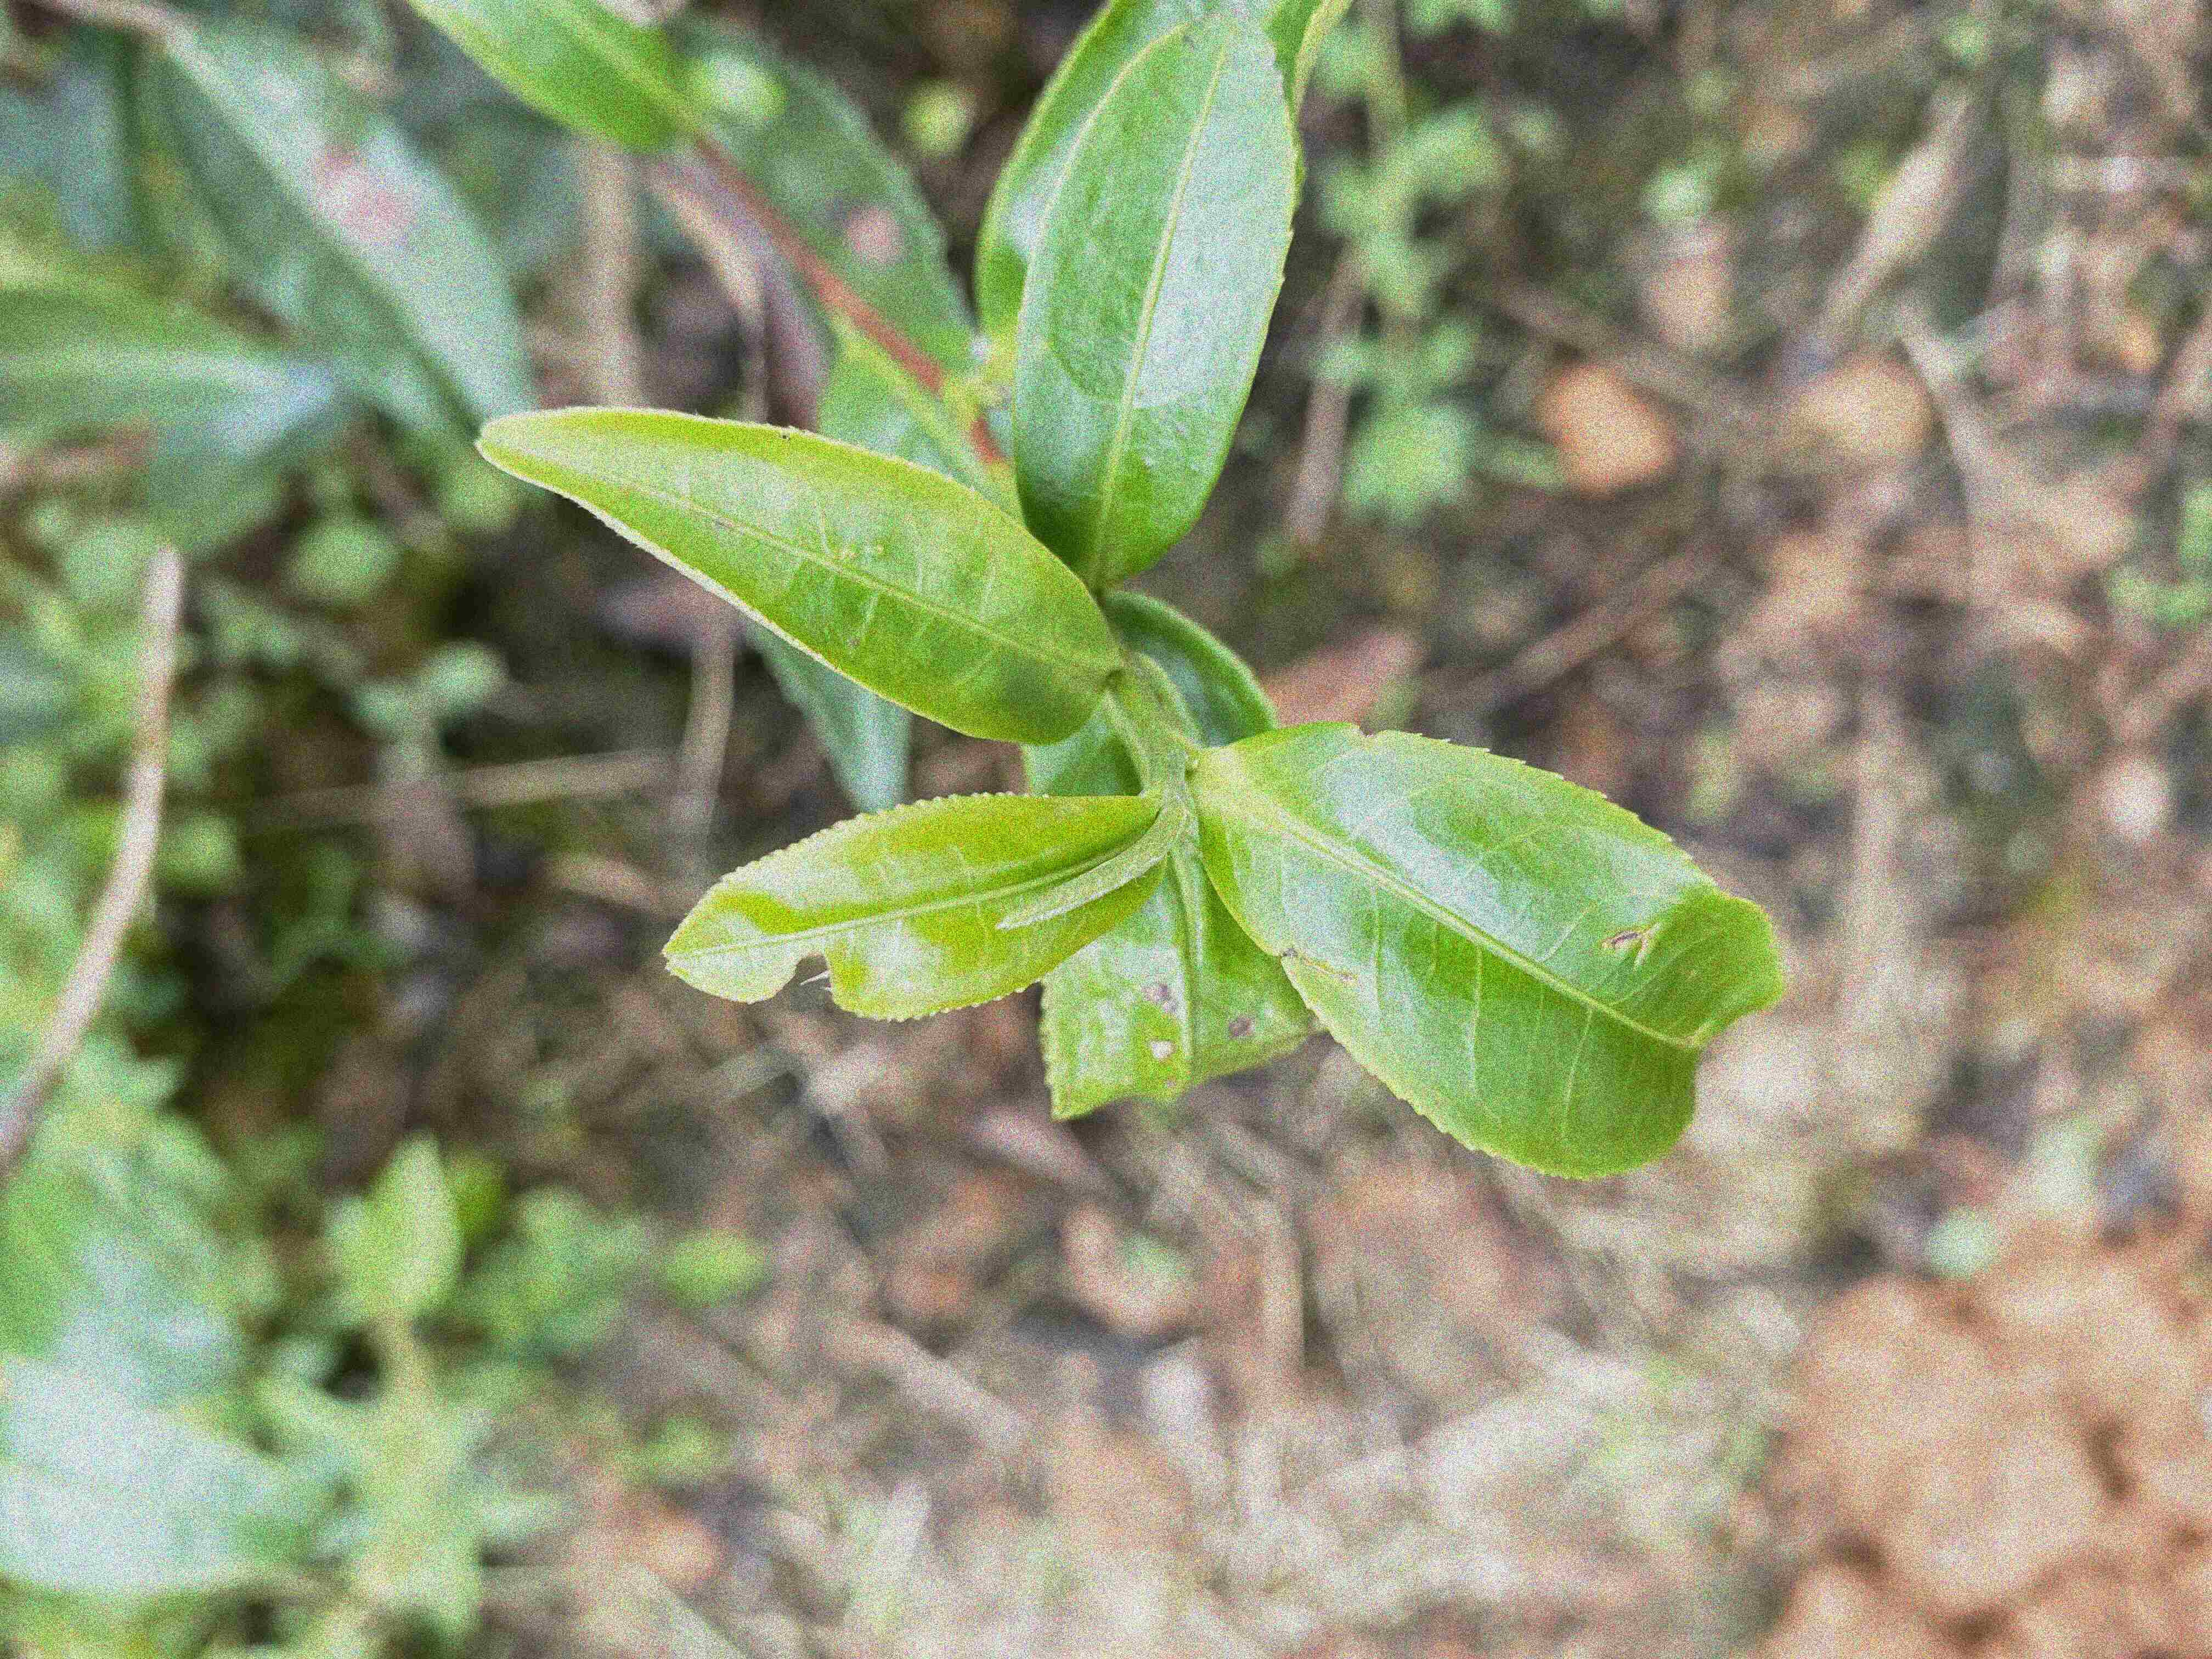chihuo_low: (662, 788, 1170, 1021)
healthy: (1014, 16, 1294, 584)
tanju_low: (1193, 716, 1782, 1180), (1024, 587, 1325, 1121)
